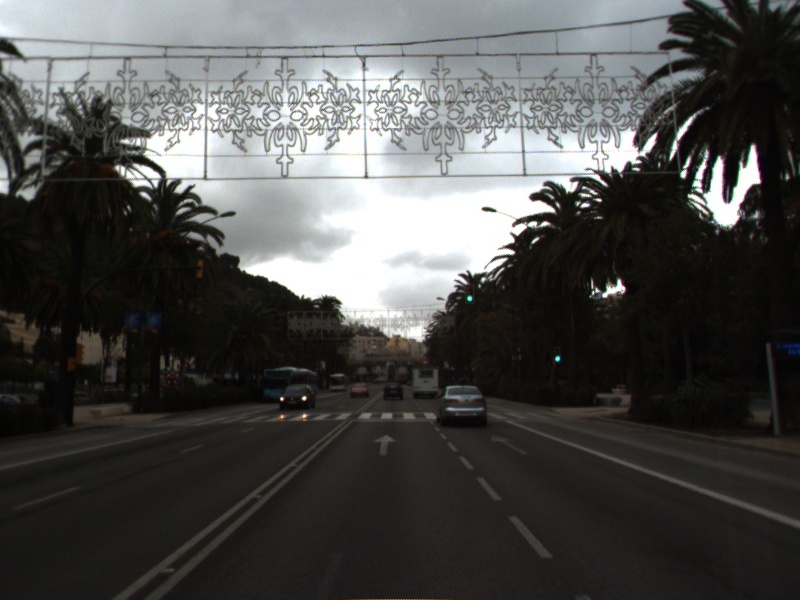STRAIGHT: (488, 433, 531, 456), (370, 432, 401, 457)
